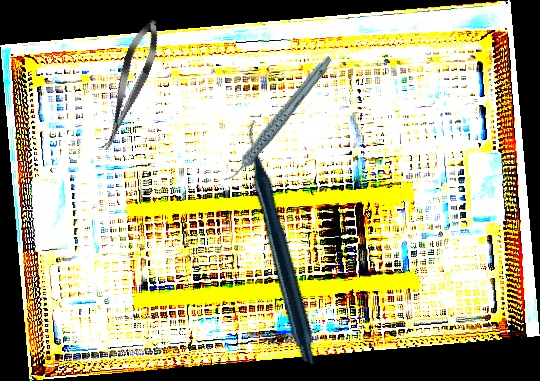Handpiece: (175, 119, 391, 365), (200, 53, 354, 185)
Micro Scissor: (93, 15, 167, 155)
